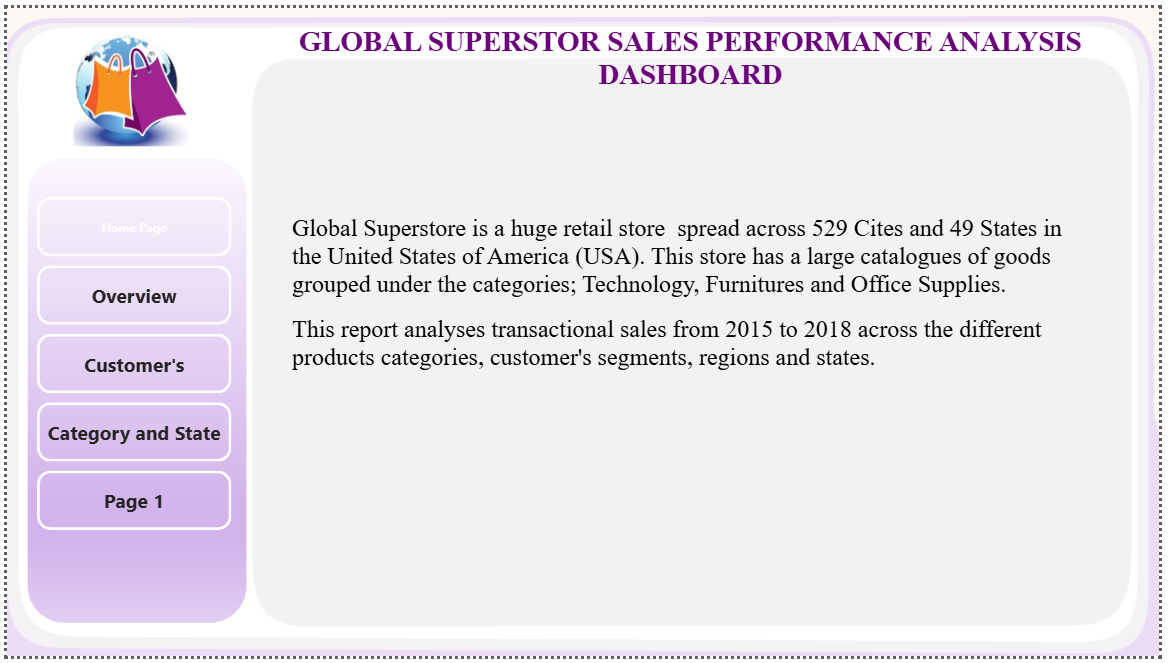

This screenshot's page, from the dashboard's own definition file:
{"tool":"powerbi","page":{"name":"Home Page","canvas":[1280,720],"ordinal":0},"visuals":[{"type":"image","box":[0,0,1280.1,720.6],"z":0},{"type":"image","box":[33.3,21.7,205,131.7],"z":1000},{"type":"textbox","box":[238.3,13.3,1041.7,86.7],"z":2000},{"type":"textbox","box":[312.3,222.8,896.2,413.1],"z":3000},{"type":"pageNavigator","box":[32.5,209.8,216.3,370.9],"z":9000}]}

Visuals, with their boxes in screenshot pixels (x1, y1, x2, y2), scaled from the page's 1280x720 canvas onto the 1168x663 screenshot:
image: left=0, top=0, right=1167, bottom=662
image: left=30, top=20, right=217, bottom=141
textbox: left=217, top=12, right=1167, bottom=92
textbox: left=285, top=205, right=1103, bottom=586
pageNavigator: left=30, top=193, right=227, bottom=535
